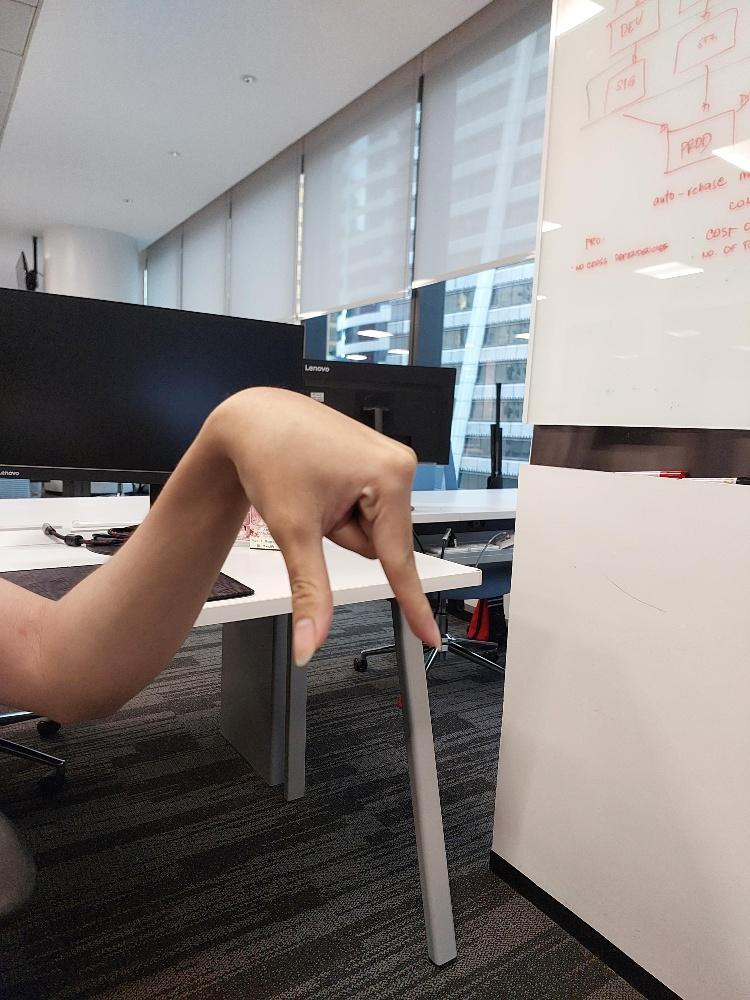q: (209, 381, 446, 669)
